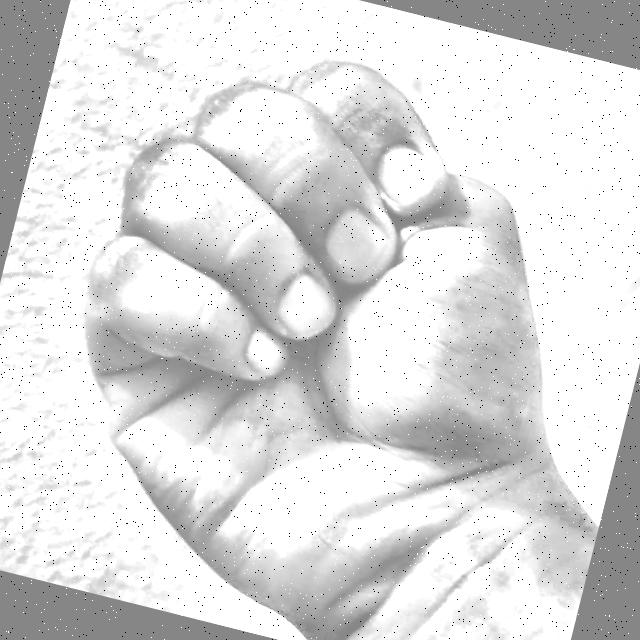To: (0, 0, 630, 640)
